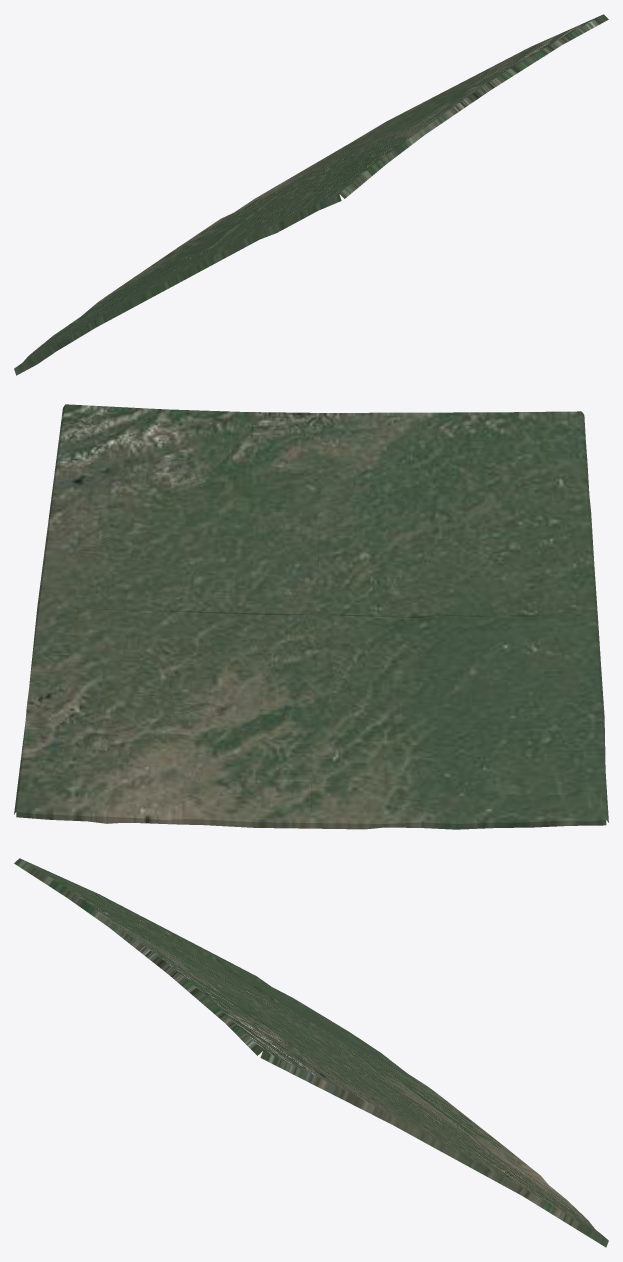
The picture shows the model from 3 angles, top to bottom: view 1: azimuth 30°, elevation 25°; view 2: azimuth 150°, elevation 25°; view 3: azimuth 270°, elevation 25°; orthographic projection. The views are drawn at different scales.
Bounding box in the file's own units: 901350 × 387343 × 802822.
Materials: 1 (1 with a texture image).
